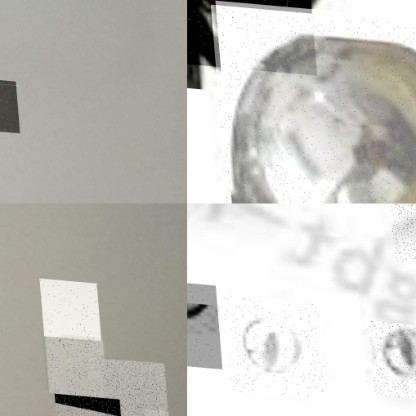ironball: (209, 2, 415, 203), (219, 292, 324, 397), (187, 0, 314, 71), (96, 352, 164, 415), (366, 316, 415, 395), (37, 273, 98, 335), (41, 330, 102, 392), (187, 279, 218, 368), (50, 388, 119, 415), (0, 77, 16, 132)
